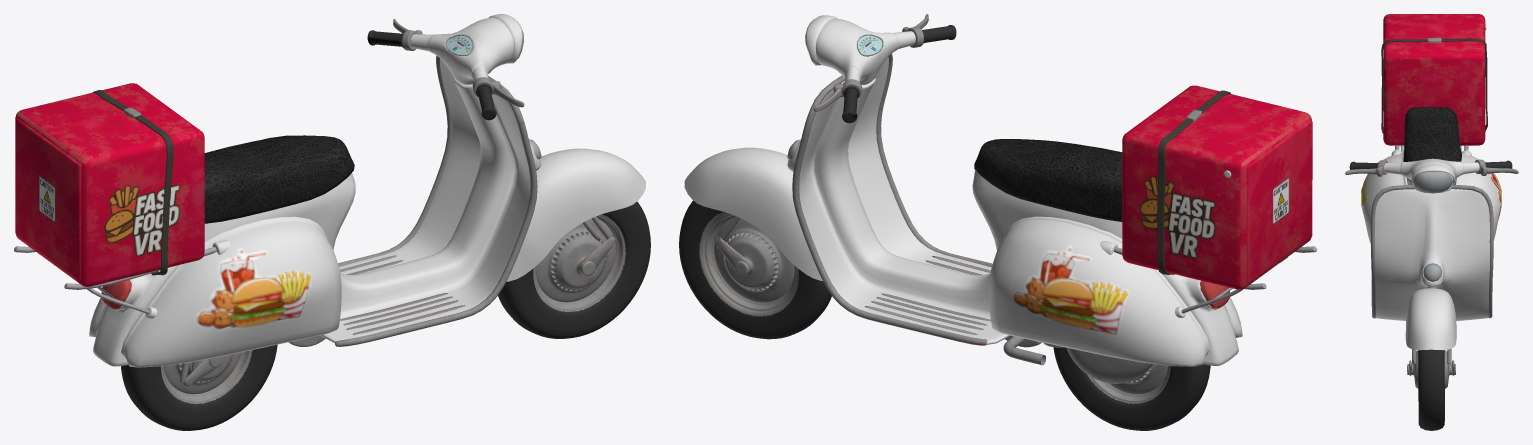
Rendered from MotoVR.glb.
The picture shows the model from 3 angles, left to right: view 1: azimuth 30°, elevation 25°; view 2: azimuth 150°, elevation 25°; view 3: azimuth 270°, elevation 25°; orthographic projection. The views are drawn at different scales.
Parts seen in each view (by area): view 1: Moto, PuertaMoto, Correa, PortaCaja; view 2: Moto, PuertaMoto, Correa, PortaCaja; view 3: Moto, Correa.
Boxes of the visible parts, x1,y1,x2,y2 form: Moto: (15, 14, 650, 430); PuertaMoto: (15, 118, 81, 280); Correa: (92, 90, 173, 275); PortaCaja: (14, 240, 231, 318); Moto: (679, 14, 1311, 430); PuertaMoto: (1247, 120, 1312, 283); Correa: (1157, 90, 1230, 274); PortaCaja: (1100, 241, 1316, 317); Moto: (1345, 14, 1518, 430); Correa: (1381, 37, 1487, 133).
Size of the model in its own units: 2.32 by 1.22 by 0.8047.
6 materials, 5 textured.
